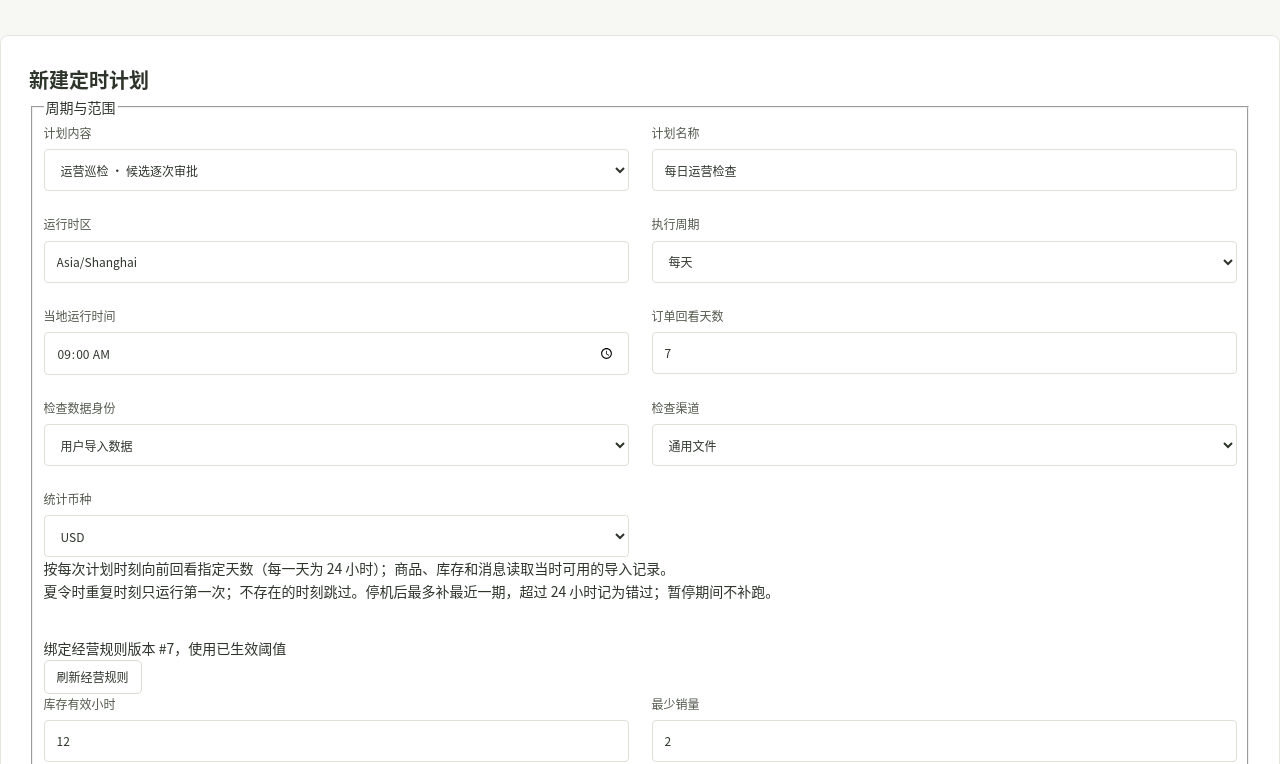
Test case: reloads and binds operations rules when switching back from reporting
Select "经营报表 · 按期保存摘要" in the dropdown labelled "计划内容" at (336, 170), box [44,150,628,192]
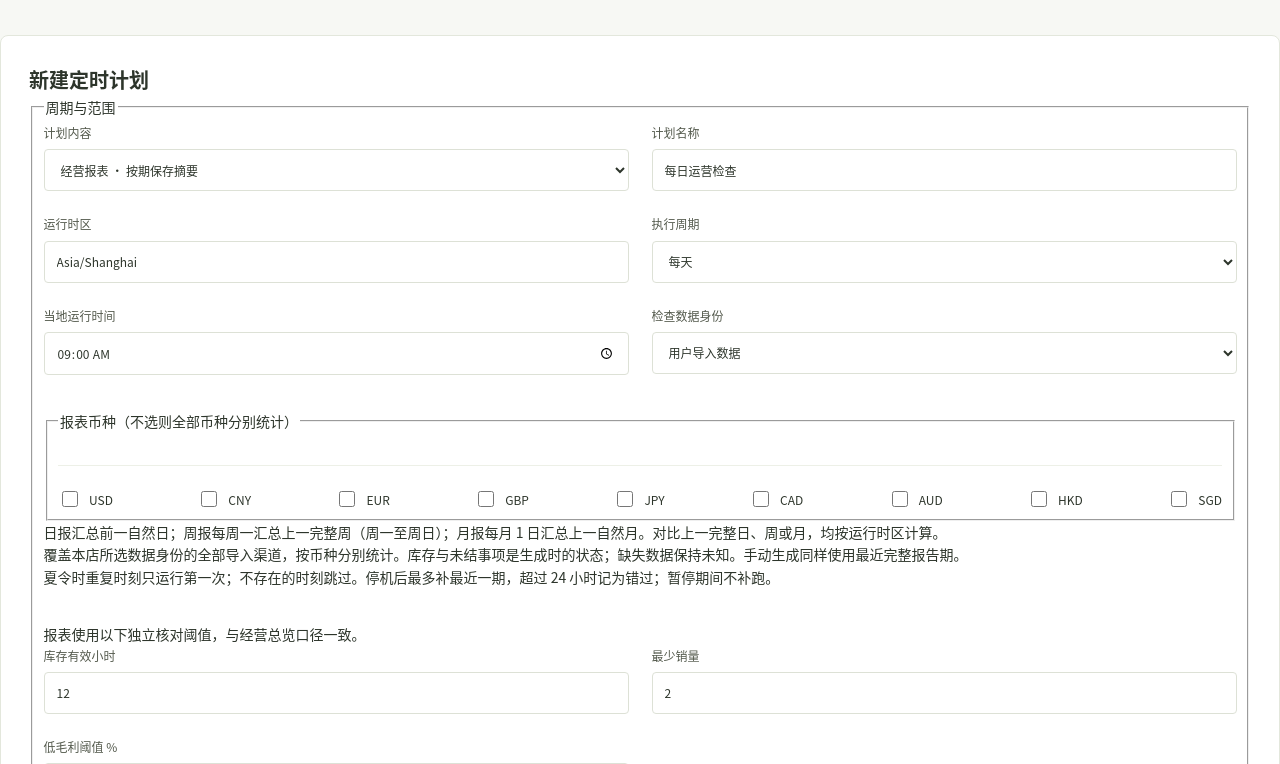
Replace the text in the number field labelled "库存有效小时" with "50" at (336, 693), box [44,672,628,714]
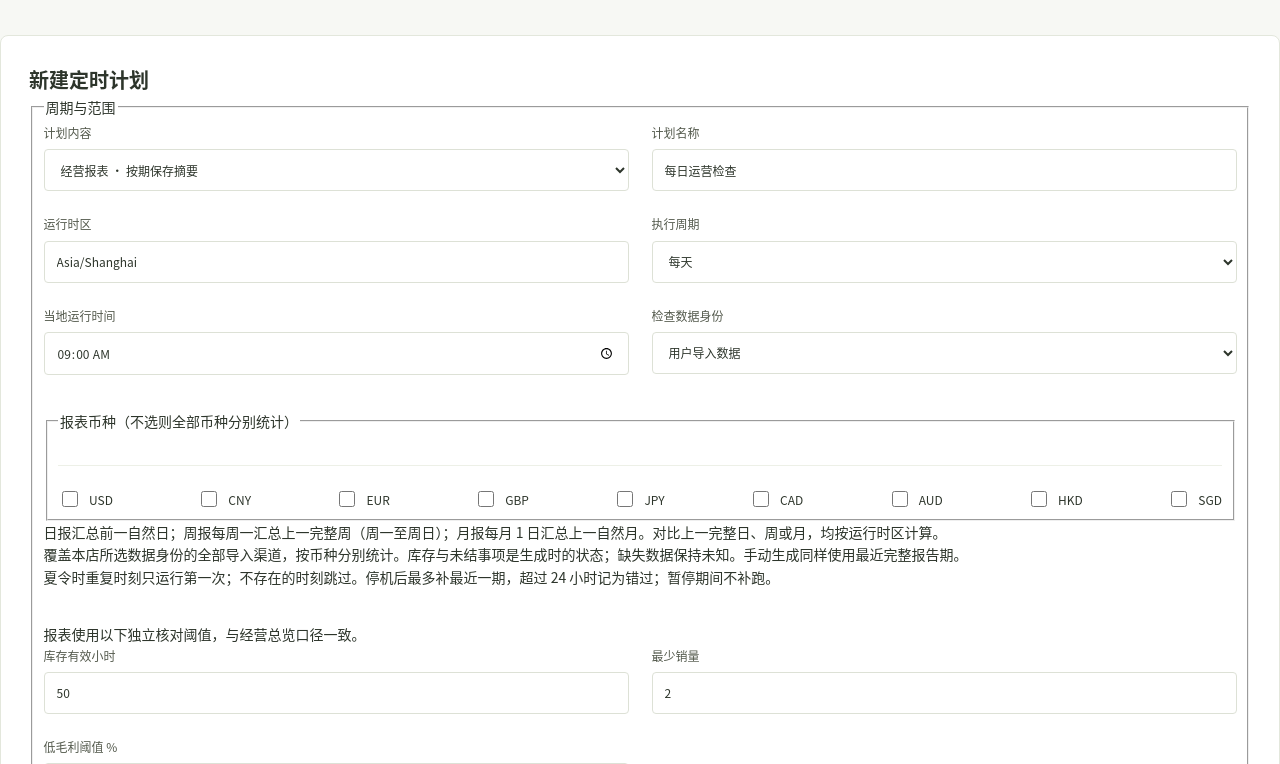
Select "运营巡检 · 候选逐次审批" in the dropdown labelled "计划内容" at (336, 170), box [44,150,628,192]
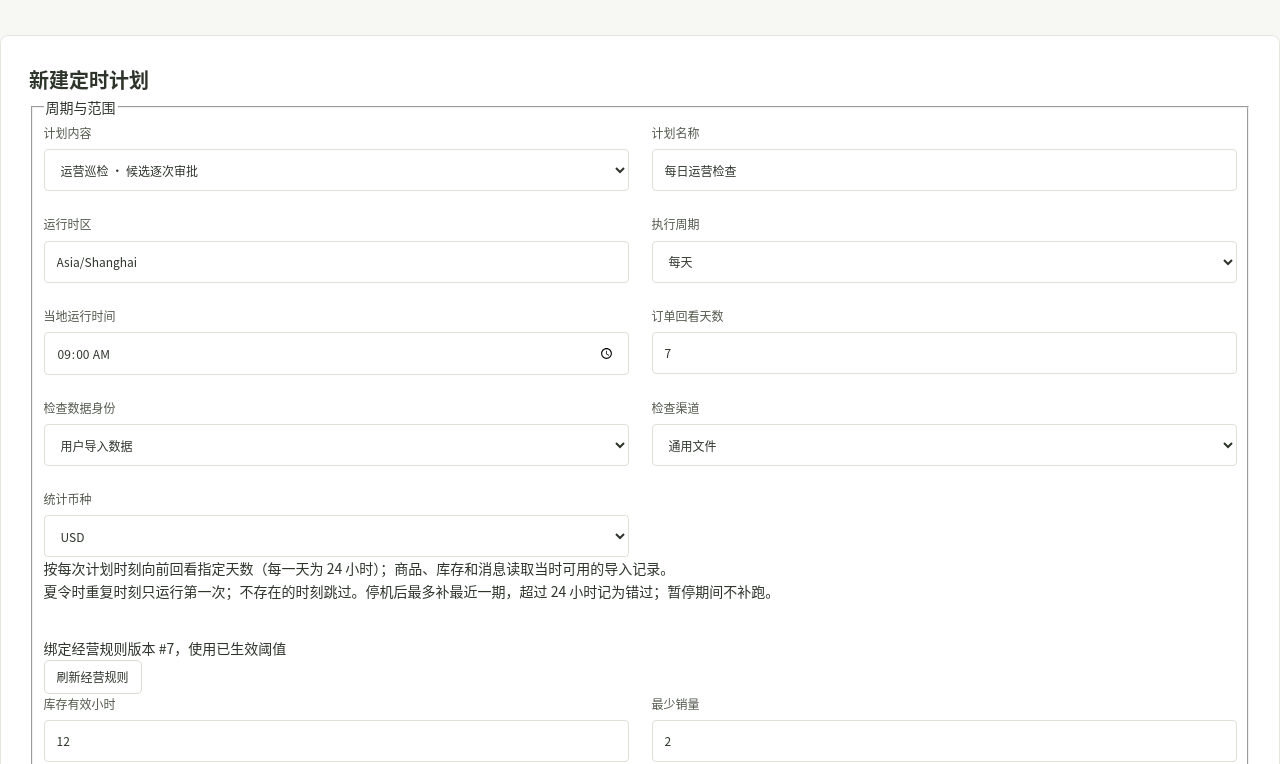
Result: the number field labelled "库存有效小时" holds "12" at [44,720,628,762]
Result: the number field labelled "库存有效小时" is disabled at [44,720,628,762]
Result: the text "绑定经营规则版本 #7" is shown at [44,638,286,658]
